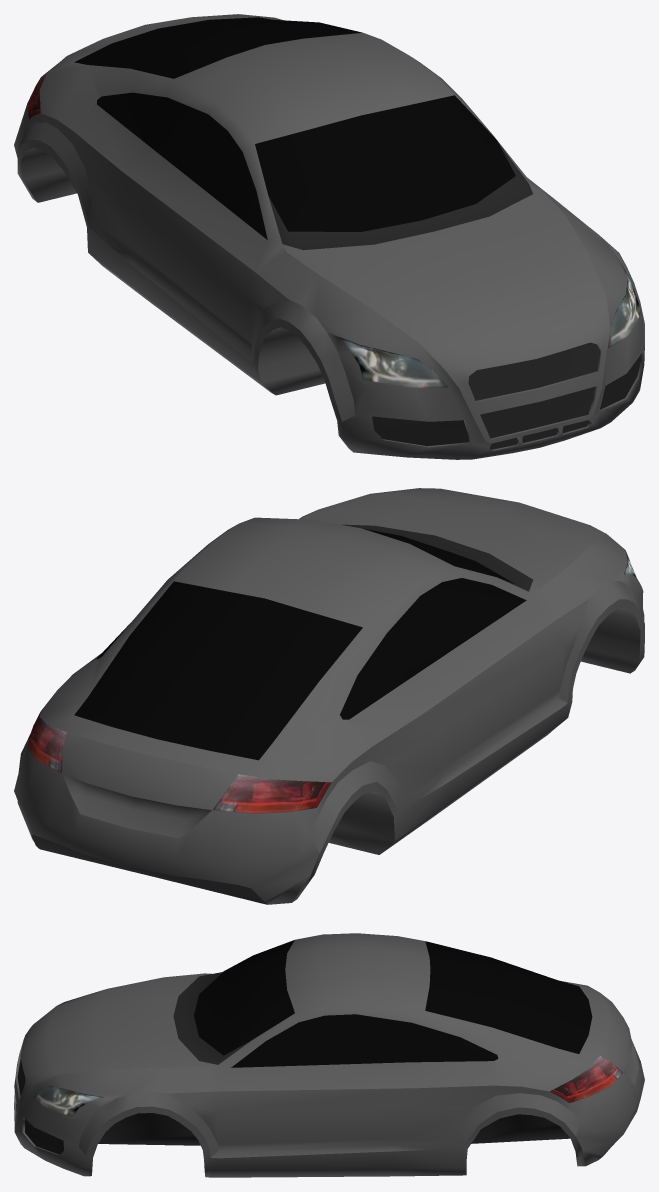
The model's file is GermanSmallCoupe.fbx.
3 views of the same model, one above another, from view 1: azimuth 30°, elevation 25°; view 2: azimuth 150°, elevation 25°; view 3: azimuth 270°, elevation 25° (orthographic). The views are drawn at different scales.
Parts seen in each view (by area): view 1: Plane; view 2: Plane; view 3: Plane.
Boxes of the visible parts, x1,y1,x2,y2 form: Plane: (14, 14, 644, 459); Plane: (14, 488, 644, 904); Plane: (14, 933, 644, 1177).
Bounding box in the file's own units: 124 × 81.17 × 280.
